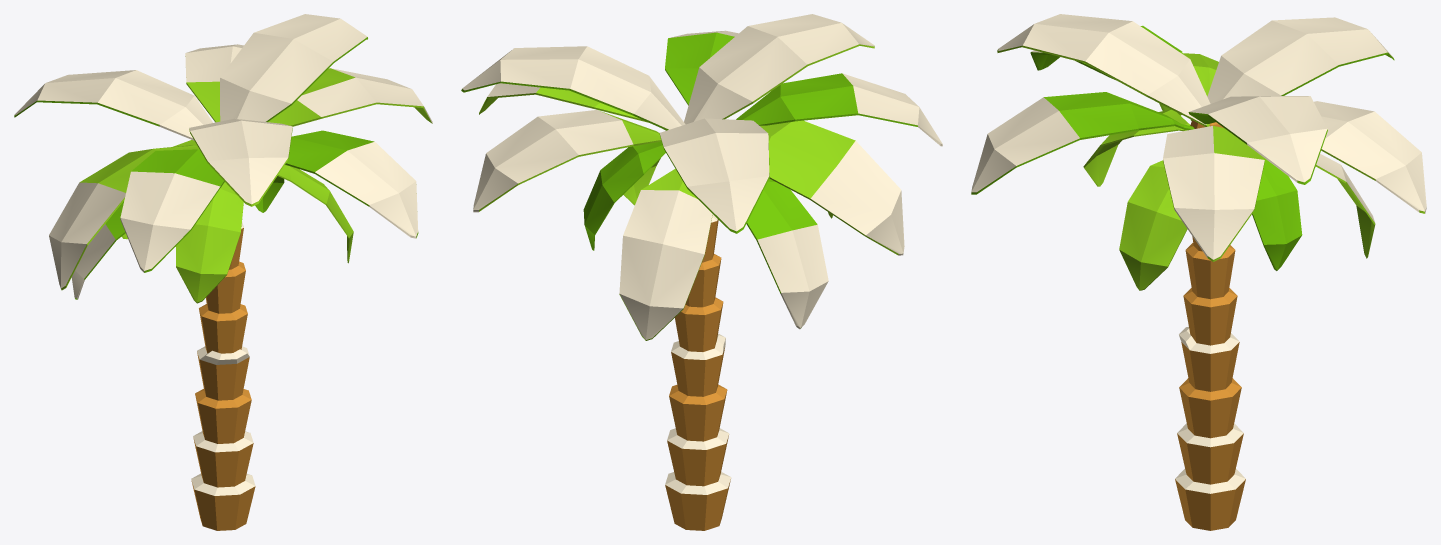
File: Tree_08_Winter.fbx
3 views of the same model, side by side, from view 1: azimuth 30°, elevation 25°; view 2: azimuth 150°, elevation 25°; view 3: azimuth 270°, elevation 25° (orthographic). The views are drawn at different scales.
Parts seen in each view (by area): view 1: Tree_08_p2_Winter, Tree_08_p1_Winter; view 2: Tree_08_p2_Winter, Tree_08_p1_Winter; view 3: Tree_08_p2_Winter, Tree_08_p1_Winter.
Boxes of the visible parts, x1,y1,x2,y2 form: Tree_08_p2_Winter: (14, 14, 432, 303); Tree_08_p1_Winter: (191, 221, 255, 530); Tree_08_p2_Winter: (461, 14, 942, 340); Tree_08_p1_Winter: (665, 214, 731, 530); Tree_08_p2_Winter: (971, 14, 1426, 290); Tree_08_p1_Winter: (1175, 120, 1245, 530).
Size of the model in its own units: 352 by 380 by 333.
